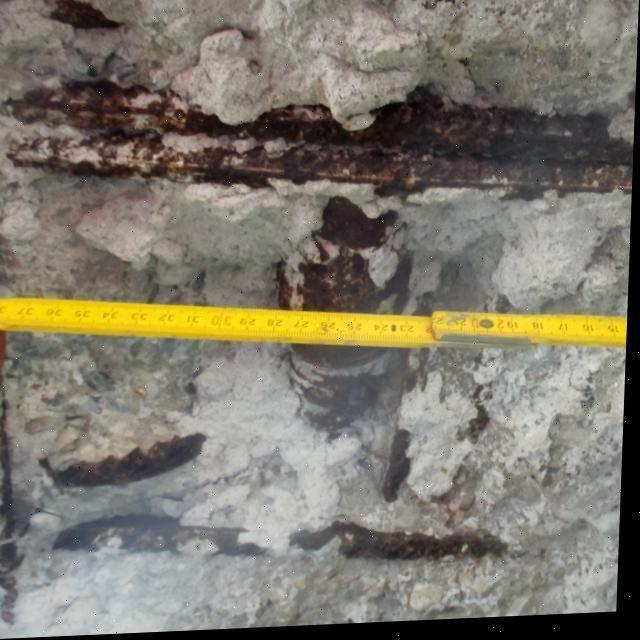D0w0: (2, 74, 629, 197)
